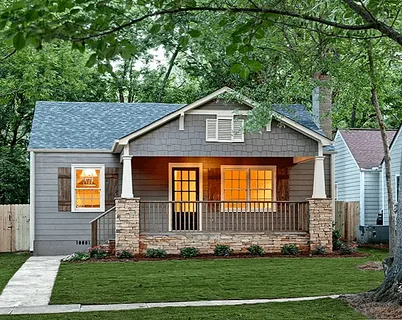private_hause: (31, 95, 349, 256)
